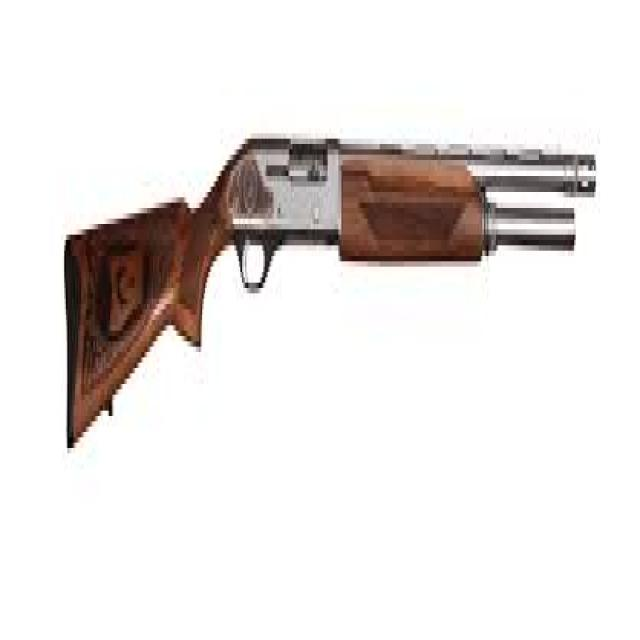rifle: (63, 134, 605, 453)
